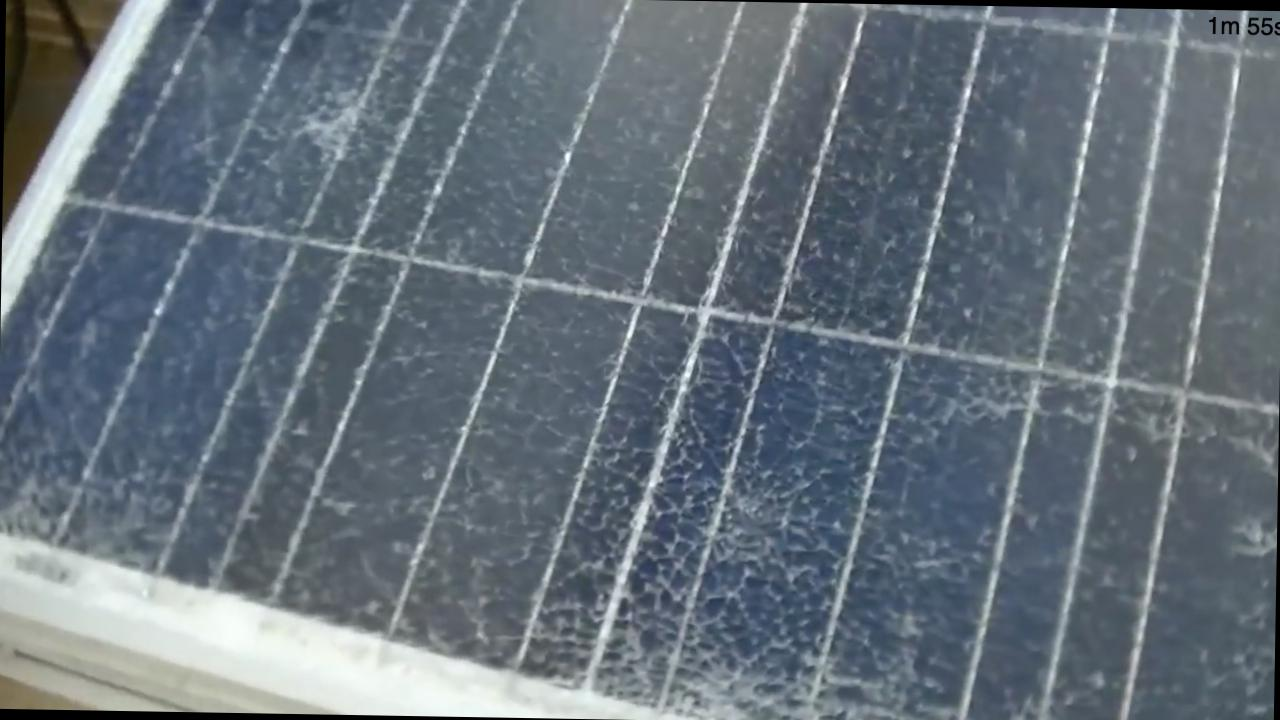Crack: (542, 443, 951, 719), (287, 67, 416, 169)
